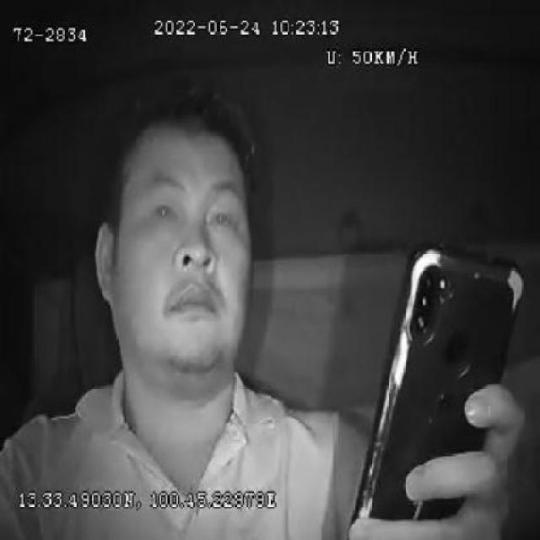phone: (351, 242, 525, 540)
